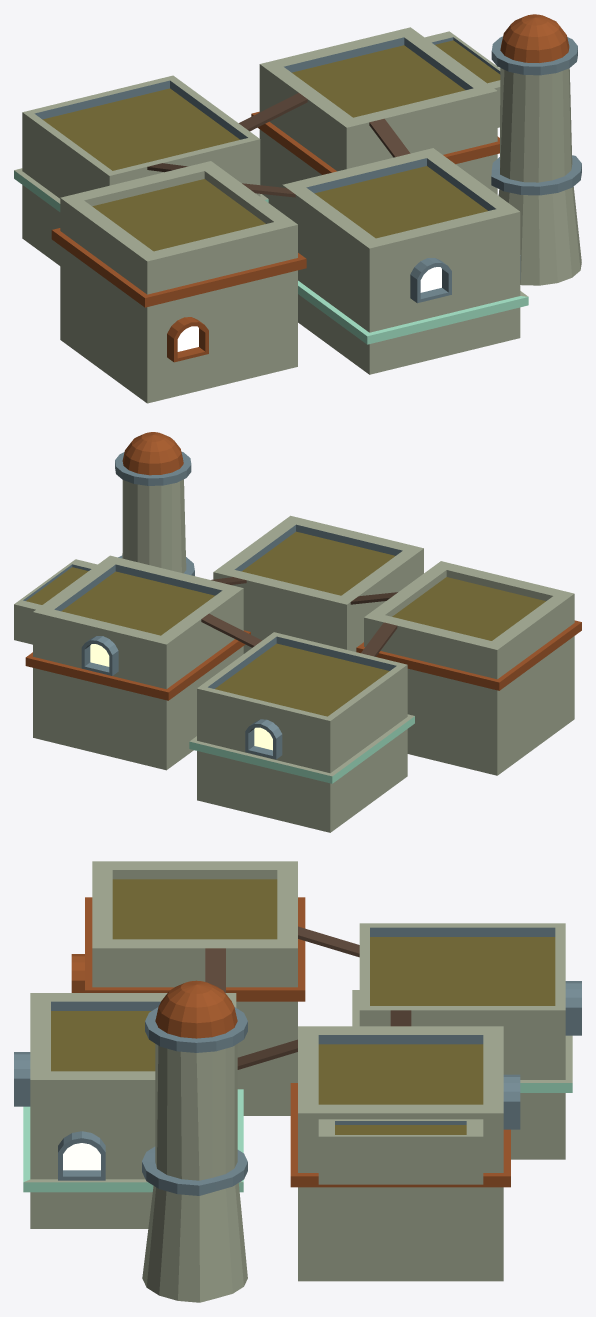
Rendered from ishik-roofs.glb.
3 renders of one model, top to bottom at view 1: azimuth 30°, elevation 25°; view 2: azimuth 150°, elevation 25°; view 3: azimuth 270°, elevation 25°, orthographic. The views are drawn at different scales.
Visible parts, largest first — view 1: house.003, house.001, house.002, house, Circle.005, Circle.002, Circle, path.003, path.001; view 2: house.002, house, house.003, house.001, Circle.005, Circle.001, Circle.004, path.003, path; view 3: house.002, house.003, house, Circle.005, house.001, Circle.003, Circle.004, Circle, Circle.001, path.002, path, path.001.
Boxes of the visible parts, x1=… form: house.003: x1=51, y1=161, x2=306, y2=403; house.001: x1=282, y1=148, x2=528, y2=374; house.002: x1=251, y1=27, x2=500, y2=212; house: x1=14, y1=75, x2=268, y2=265; Circle.005: x1=491, y1=14, x2=581, y2=285; Circle.002: x1=167, y1=317, x2=208, y2=362; Circle: x1=410, y1=258, x2=451, y2=303; path.003: x1=239, y1=93, x2=307, y2=131; path.001: x1=369, y1=118, x2=410, y2=157; house.002: x1=14, y1=555, x2=250, y2=770; house: x1=189, y1=632, x2=414, y2=832; house.003: x1=356, y1=561, x2=581, y2=775; house.001: x1=213, y1=515, x2=423, y2=653; Circle.005: x1=115, y1=432, x2=194, y2=575; Circle.001: x1=245, y1=719, x2=282, y2=759; Circle.004: x1=81, y1=636, x2=118, y2=675; path.003: x1=201, y1=613, x2=261, y2=647; path: x1=361, y1=622, x2=397, y2=656; house.002: x1=290, y1=1026, x2=510, y2=1281; house.003: x1=85, y1=861, x2=305, y2=1115; house: x1=352, y1=923, x2=572, y2=1159; Circle.005: x1=142, y1=980, x2=247, y2=1302; house.001: x1=23, y1=993, x2=243, y2=1228; Circle.003: x1=58, y1=1131, x2=105, y2=1180; Circle.004: x1=503, y1=1074, x2=520, y2=1129; Circle: x1=14, y1=1052, x2=30, y2=1106; Circle.001: x1=565, y1=981, x2=581, y2=1035; path.002: x1=205, y1=948, x2=225, y2=992; path: x1=298, y1=926, x2=359, y2=957; path.001: x1=237, y1=1039, x2=297, y2=1069.
Bounding box in the file's own units: 12.71 × 6.3 × 11.04.
